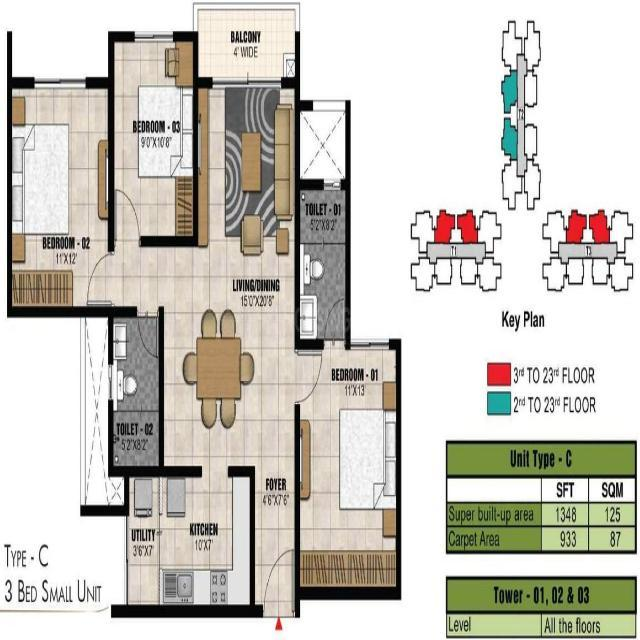Balcony-Sitout: (196, 7, 297, 75)
Bedroom: (298, 346, 400, 600), (8, 81, 112, 307), (112, 34, 197, 242)
Dining: (183, 309, 254, 433)
Enterance-Foyer: (254, 464, 296, 633)
Kitchen: (157, 469, 253, 611)
Living: (193, 80, 295, 255)
Toilet: (297, 185, 350, 347), (112, 312, 162, 473)
Utility: (128, 479, 159, 609)
